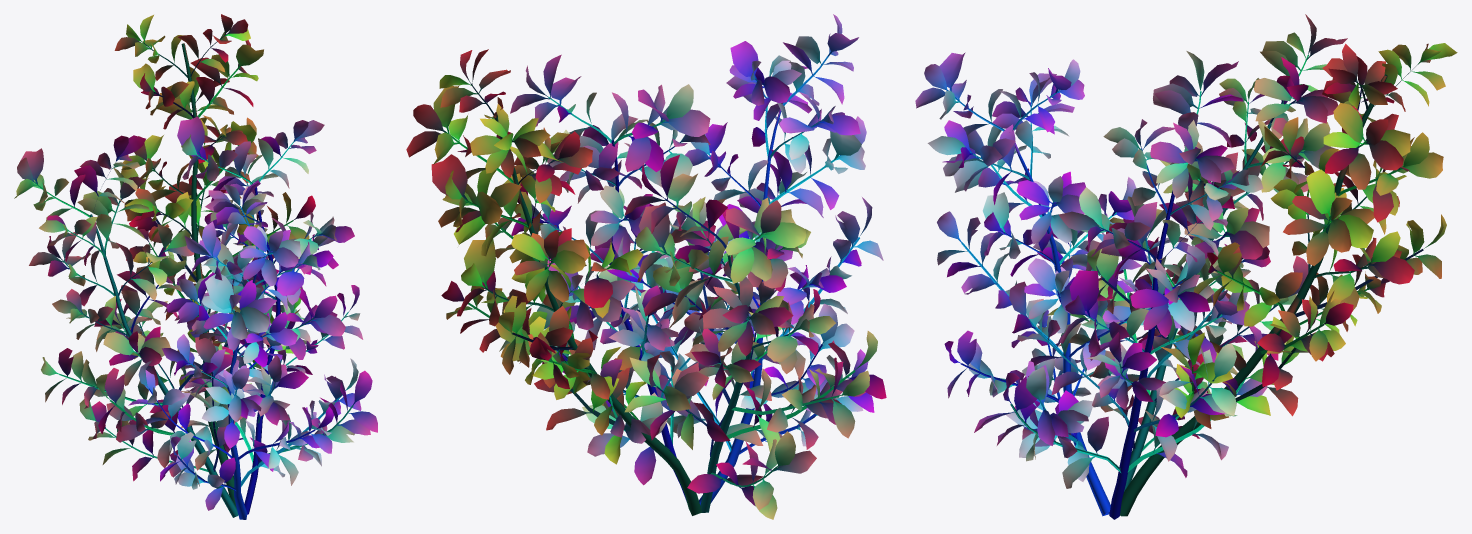
The model's file is European_Spindle_wk1ncbxja_Mid_wk1ncbxja_VarI_LOD0.fbx.
3 renders of one model, left to right at view 1: azimuth 30°, elevation 25°; view 2: azimuth 150°, elevation 25°; view 3: azimuth 270°, elevation 25°, orthographic. The views are drawn at different scales.
Visible parts, largest first — view 1: _39bl_VarI_LOD1; view 2: _39bl_VarI_LOD1; view 3: _39bl_VarI_LOD1.
Part boxes in pixels (box(x1,y1,x2,y2)): _39bl_VarI_LOD1: box(14, 14, 377, 519); _39bl_VarI_LOD1: box(406, 14, 886, 519); _39bl_VarI_LOD1: box(915, 14, 1457, 519).
Bounding box in the file's own units: 80.33 × 111 × 105.
